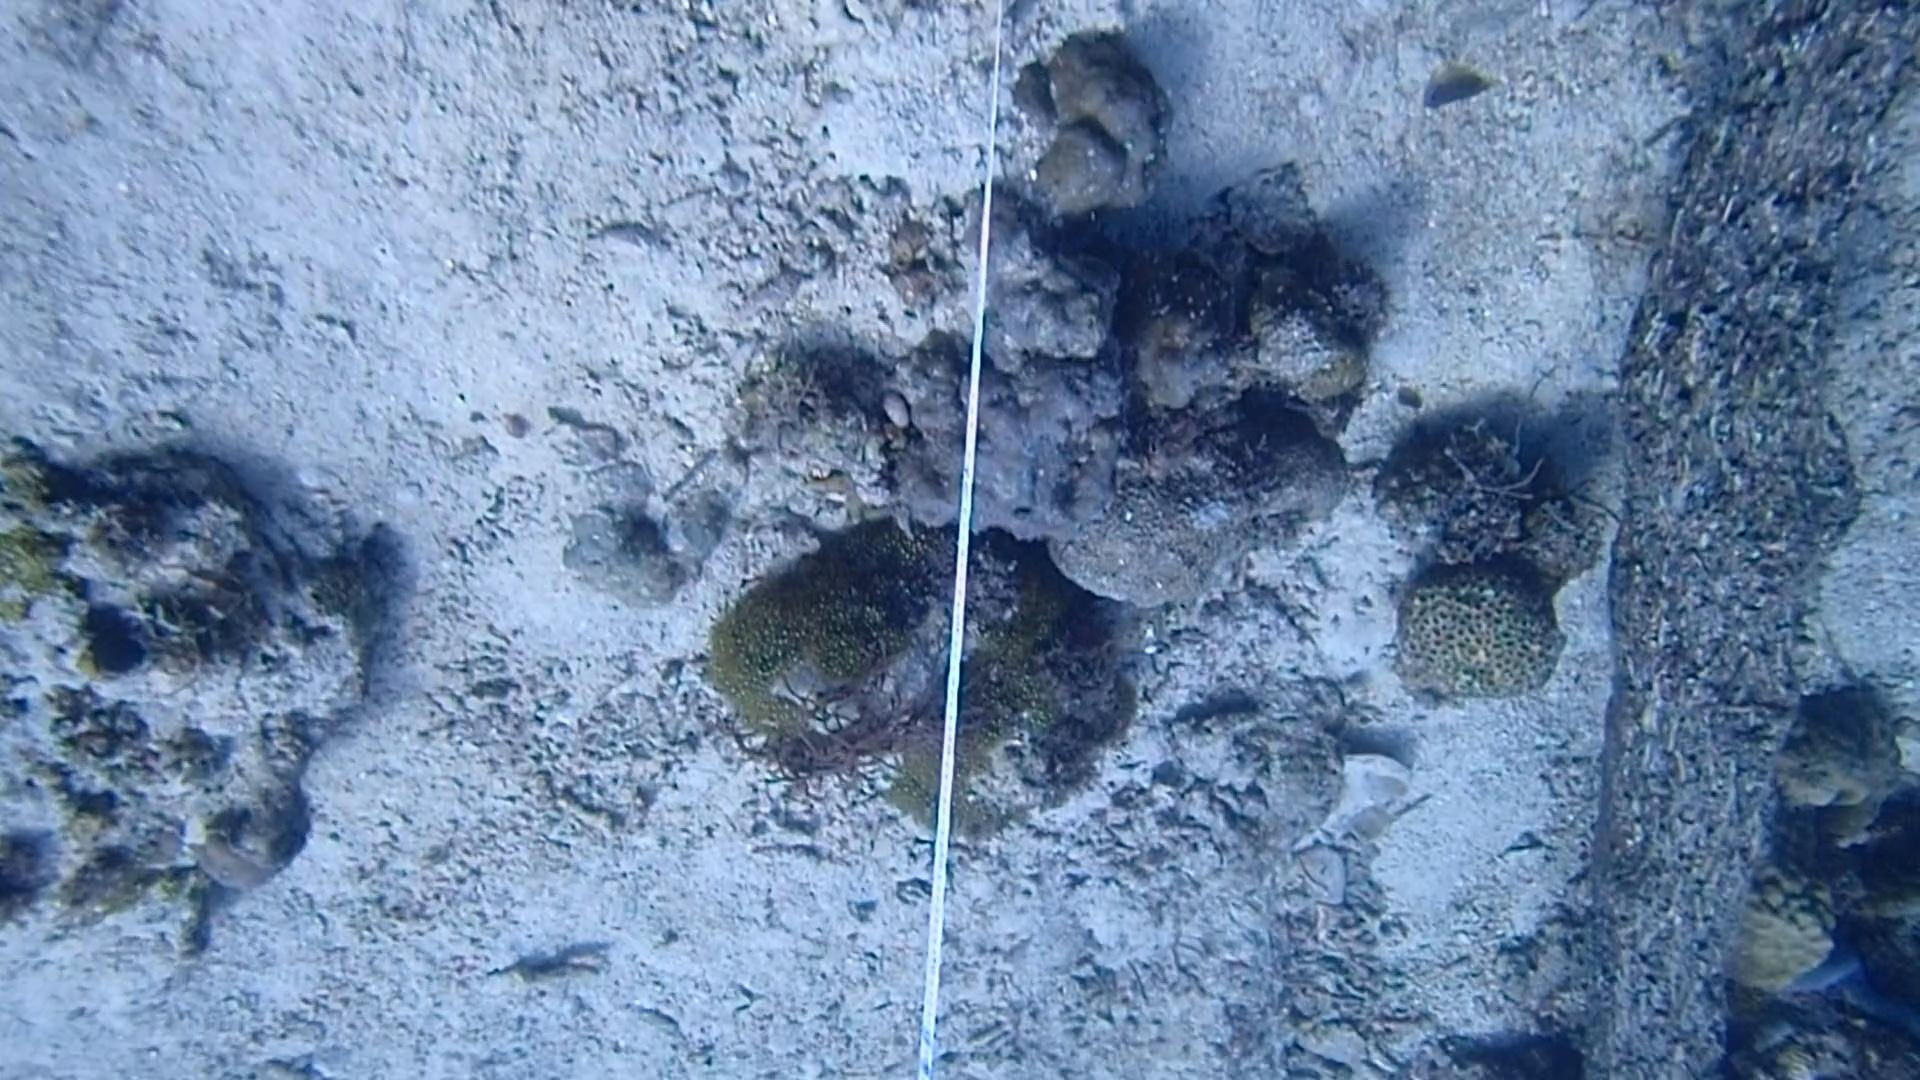Light Fish: (1411, 50, 1494, 125)
